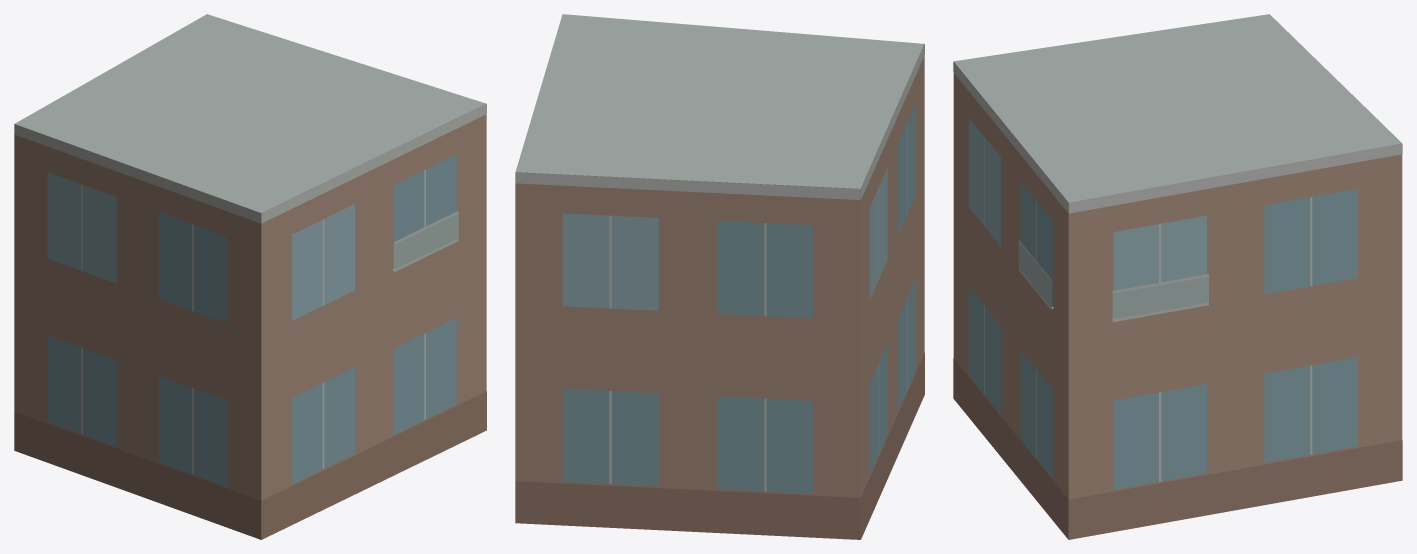
File: survey-upis-32600460.glb
3 renders of one model, left to right at view 1: azimuth 30°, elevation 25°; view 2: azimuth 150°, elevation 25°; view 3: azimuth 270°, elevation 25°, orthographic. The views are drawn at different scales.
Visible parts, largest first — view 1: survey-upis-32600460.tmp; view 2: survey-upis-32600460.tmp; view 3: survey-upis-32600460.tmp.
Part boxes in pixels (<box>): survey-upis-32600460.tmp: <box>14,14,486,539</box>; survey-upis-32600460.tmp: <box>515,14,924,539</box>; survey-upis-32600460.tmp: <box>953,14,1402,539</box>.
Bounding box in the file's own units: 9.14 × 7.6 × 9.19.
